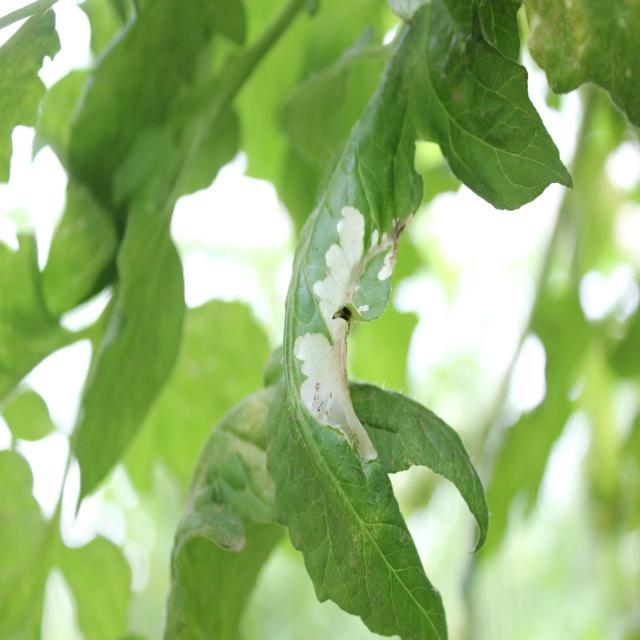Tuta absoluta: (294, 206, 376, 459), (377, 236, 401, 283)
